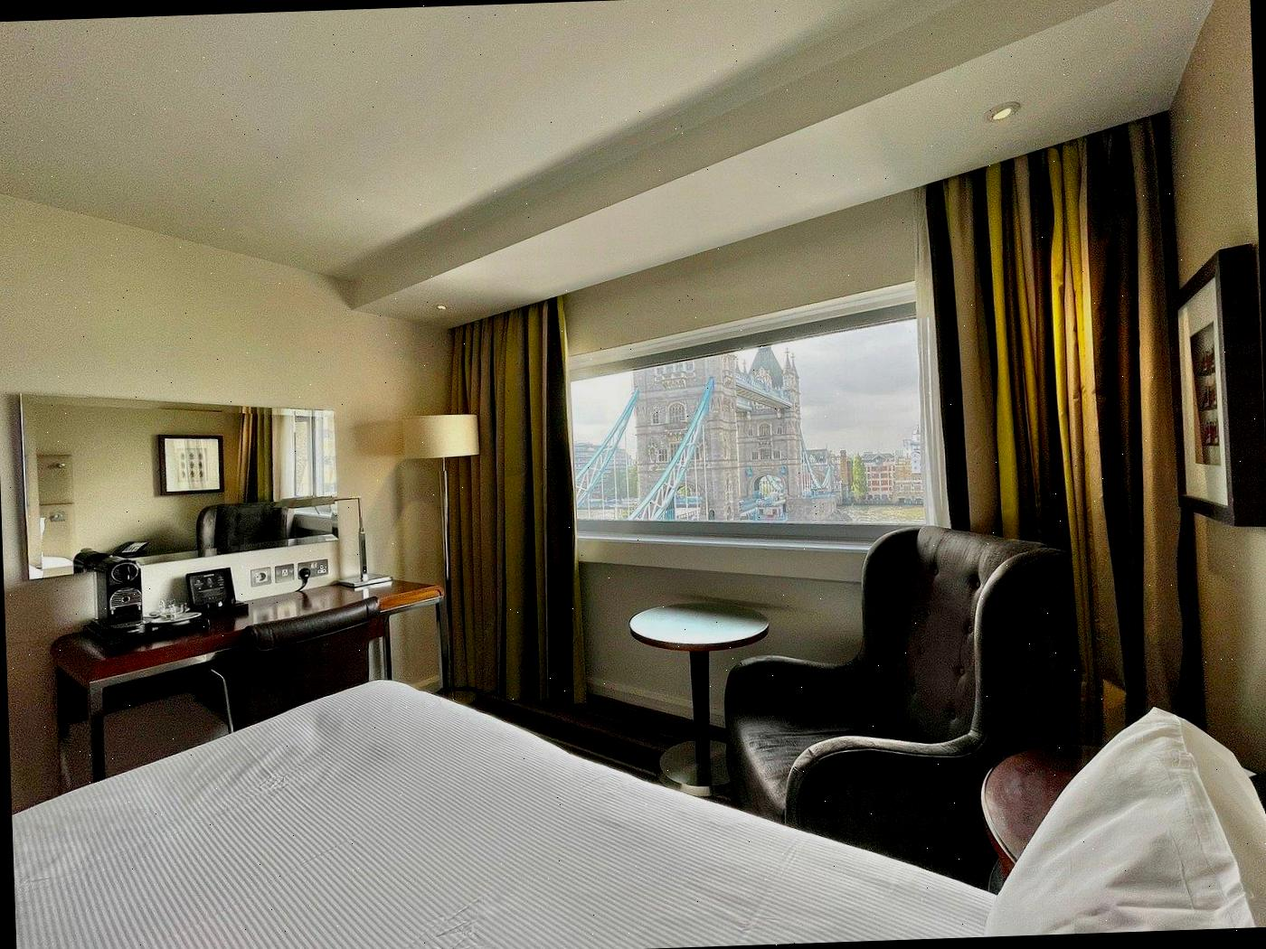chair: (711, 530, 1037, 835)
clean_bed: (7, 648, 1266, 949)
lamp: (397, 412, 487, 707)
organised_pillow: (967, 699, 1266, 937)
organized table: (67, 546, 367, 669), (621, 592, 771, 800)
